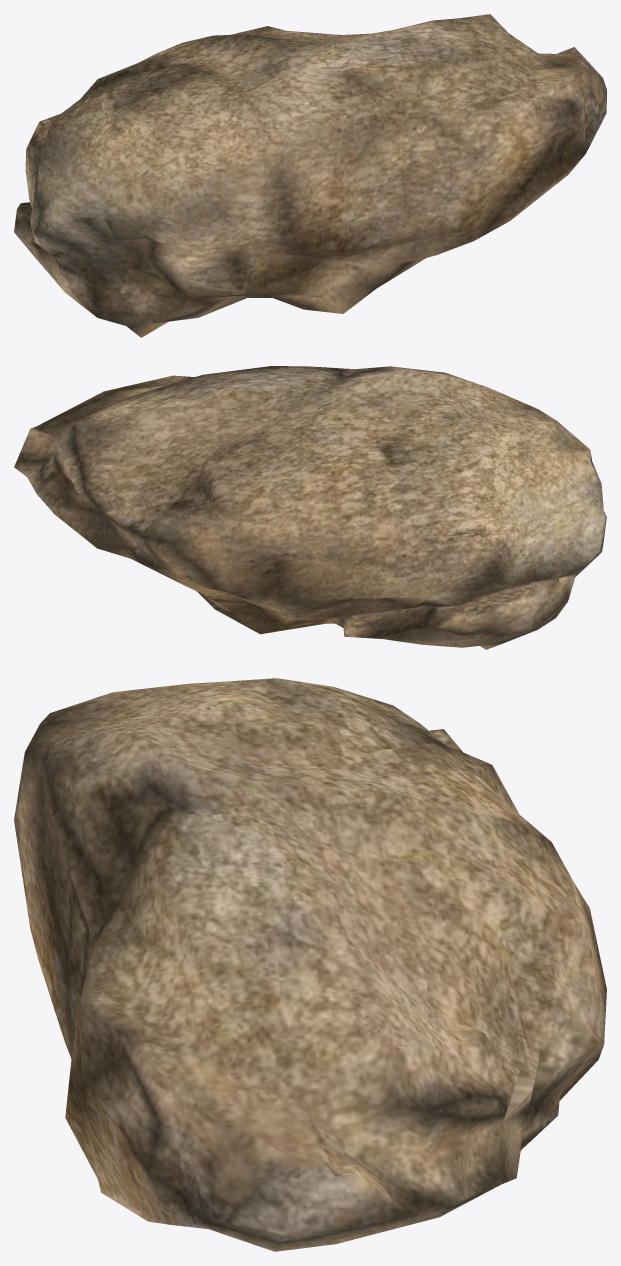
Rendered from namaqualand_boulder_05_lod2.glb.
The picture shows the model from 3 angles, top to bottom: view 1: azimuth 30°, elevation 25°; view 2: azimuth 150°, elevation 25°; view 3: azimuth 270°, elevation 25°; orthographic projection. The views are drawn at different scales.
Parts seen in each view (by area): view 1: namaqualand_boulder_05; view 2: namaqualand_boulder_05; view 3: namaqualand_boulder_05.
Boxes of the visible parts, x1,y1,x2,y2 form: namaqualand_boulder_05: [14, 14, 606, 337]; namaqualand_boulder_05: [14, 366, 606, 649]; namaqualand_boulder_05: [14, 678, 606, 1251].
Bounding box in the file's own units: 1.36 × 0.5309 × 0.7377.
Materials: 1 (1 with a texture image).
